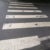zebra: (1, 2, 50, 50)
